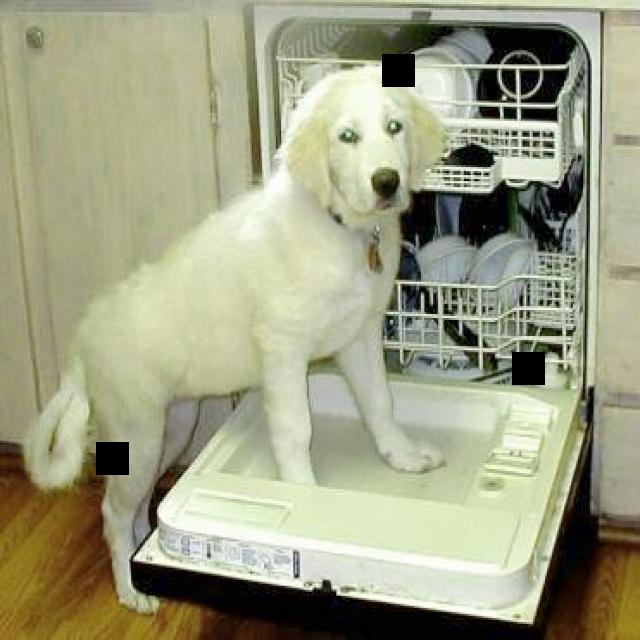adult_dog: (21, 67, 450, 620)
